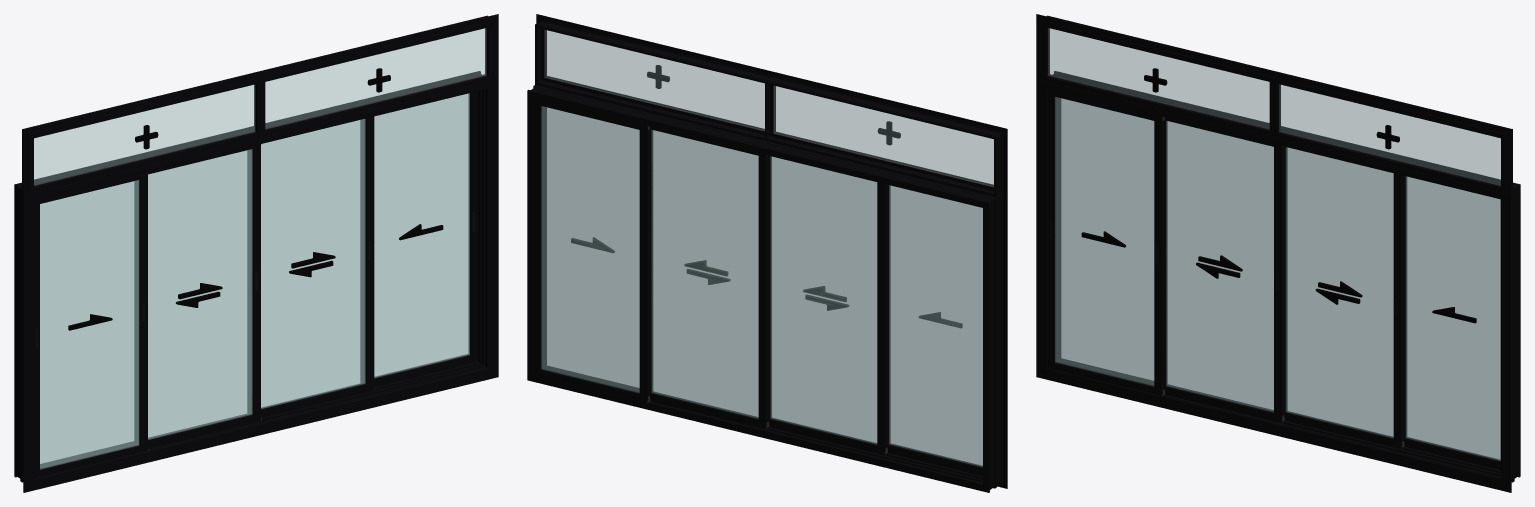
The model's file is SLIDING-ROYAL-4-TRACK-4-PANELS-W-FIXED-TOP-W-1-TSEC.glb.
3 views of the same model, side by side, from view 1: azimuth 30°, elevation 25°; view 2: azimuth 150°, elevation 25°; view 3: azimuth 330°, elevation 25° (orthographic).
Visible parts, largest first — view 1: GEO-PNL-1-2-SSH-GLZ-IN, GEO-PNL-1-3-SSH-GLZ-IN, GEO-PNL-1-2-SSH-GLZ-OUT, GEO-PNL-1-3-SSH-GLZ-OUT, GEO-PNL-1-1-SSH-GLZ-IN, GEO-PNL-1-1-SSH-GLZ-OUT, GEO-PNL-1-4-SSH-GLZ-IN, GEO-PNL-1-4-SSH-GLZ-OUT, GEO-GRD-0-1-FRM-GLZ-IN, GEO-GRD-0-0-FRM-RAIL-B, GEO-GRD-0-0-FRM-RAIL-T, GEO-GRD-0-0-FRM-SIDE-L (+22 smaller); view 2: GEO-PNL-1-3-SSH-GLZ-OUT, GEO-PNL-1-2-SSH-GLZ-OUT, GEO-PNL-1-3-SSH-GLZ-IN, GEO-PNL-1-2-SSH-GLZ-IN, GEO-PNL-1-4-SSH-GLZ-OUT, GEO-PNL-1-4-SSH-GLZ-IN, GEO-PNL-1-1-SSH-GLZ-OUT, GEO-PNL-1-1-SSH-GLZ-IN, GEO-GRD-0-1-FRM-GLZ-IN, GEO-GRD-0-0-FRM-RAIL-T, GEO-GRD-0-1-FRM-RAIL-B, GEO-GRD-0-0-FRM-SIDE-L (+22 smaller); view 3: GEO-PNL-1-2-SSH-GLZ-IN, GEO-PNL-1-3-SSH-GLZ-IN, GEO-PNL-1-2-SSH-GLZ-OUT, GEO-PNL-1-3-SSH-GLZ-OUT, GEO-PNL-1-1-SSH-GLZ-IN, GEO-PNL-1-1-SSH-GLZ-OUT, GEO-PNL-1-4-SSH-GLZ-IN, GEO-PNL-1-4-SSH-GLZ-OUT, GEO-GRD-0-1-FRM-GLZ-IN, GEO-GRD-0-0-FRM-RAIL-B, GEO-GRD-0-0-FRM-RAIL-T, GEO-GRD-0-0-FRM-SIDE-R (+24 smaller).
Boxes of the visible parts, <box> form: GEO-PNL-1-2-SSH-GLZ-IN: <box>148,149,252,439</box>; GEO-PNL-1-3-SSH-GLZ-IN: <box>261,119,365,408</box>; GEO-PNL-1-2-SSH-GLZ-OUT: <box>148,150,251,438</box>; GEO-PNL-1-3-SSH-GLZ-OUT: <box>261,119,364,407</box>; GEO-PNL-1-1-SSH-GLZ-IN: <box>40,180,138,469</box>; GEO-PNL-1-1-SSH-GLZ-OUT: <box>40,180,138,468</box>; GEO-PNL-1-4-SSH-GLZ-IN: <box>374,93,469,377</box>; GEO-PNL-1-4-SSH-GLZ-OUT: <box>374,94,468,376</box>; GEO-GRD-0-1-FRM-GLZ-IN: <box>34,28,485,184</box>; GEO-GRD-0-0-FRM-RAIL-B: <box>40,363,482,483</box>; GEO-GRD-0-0-FRM-RAIL-T: <box>34,74,482,197</box>; GEO-GRD-0-0-FRM-SIDE-L: <box>14,197,34,474</box>; GEO-PNL-1-3-SSH-GLZ-OUT: <box>651,130,758,418</box>; GEO-PNL-1-2-SSH-GLZ-OUT: <box>770,156,876,444</box>; GEO-PNL-1-3-SSH-GLZ-IN: <box>652,130,758,417</box>; GEO-PNL-1-2-SSH-GLZ-IN: <box>771,157,876,443</box>; GEO-PNL-1-4-SSH-GLZ-OUT: <box>541,106,639,392</box>; GEO-PNL-1-4-SSH-GLZ-IN: <box>542,106,639,391</box>; GEO-PNL-1-1-SSH-GLZ-OUT: <box>889,185,982,466</box>; GEO-PNL-1-1-SSH-GLZ-IN: <box>890,186,982,465</box>; GEO-GRD-0-1-FRM-GLZ-IN: <box>545,30,993,186</box>; GEO-GRD-0-0-FRM-RAIL-T: <box>539,87,984,206</box>; GEO-GRD-0-1-FRM-RAIL-B: <box>546,77,990,194</box>; GEO-GRD-0-0-FRM-SIDE-L: <box>983,205,1002,480</box>; GEO-PNL-1-2-SSH-GLZ-IN: <box>1166,121,1273,412</box>; GEO-PNL-1-3-SSH-GLZ-IN: <box>1286,147,1393,437</box>; GEO-PNL-1-2-SSH-GLZ-OUT: <box>1167,121,1273,410</box>; GEO-PNL-1-3-SSH-GLZ-OUT: <box>1287,147,1393,436</box>; GEO-PNL-1-1-SSH-GLZ-IN: <box>1055,97,1153,386</box>; GEO-PNL-1-1-SSH-GLZ-OUT: <box>1056,97,1153,384</box>; GEO-PNL-1-4-SSH-GLZ-IN: <box>1406,176,1500,460</box>; GEO-PNL-1-4-SSH-GLZ-OUT: <box>1406,177,1500,459</box>; GEO-GRD-0-1-FRM-GLZ-IN: <box>1049,28,1500,184</box>; GEO-GRD-0-0-FRM-RAIL-B: <box>1052,360,1500,483</box>; GEO-GRD-0-0-FRM-RAIL-T: <box>1052,74,1500,197</box>; GEO-GRD-0-0-FRM-SIDE-R: <box>1500,197,1520,474</box>.
Bounding box in the file's own units: 4.08 × 2.98 × 0.2477.
